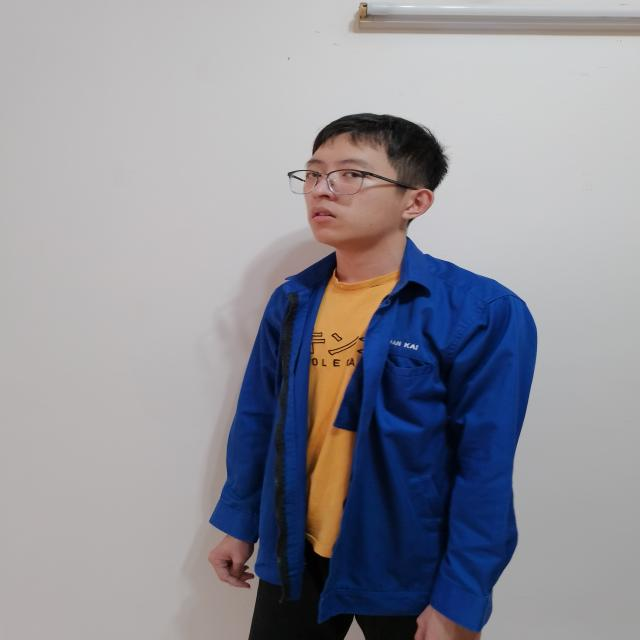person_with_labcoat: (209, 114, 536, 640)
